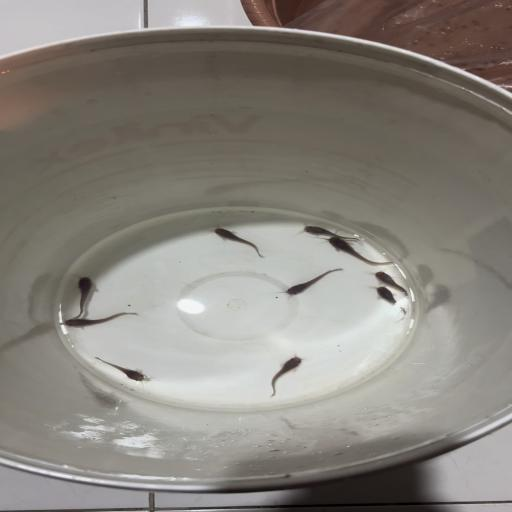lele: (315, 236, 398, 267), (278, 266, 344, 300), (206, 224, 268, 259), (263, 352, 306, 398), (57, 309, 141, 332), (91, 356, 154, 386), (293, 221, 367, 243), (364, 270, 419, 299), (366, 286, 408, 322), (68, 274, 97, 319)
